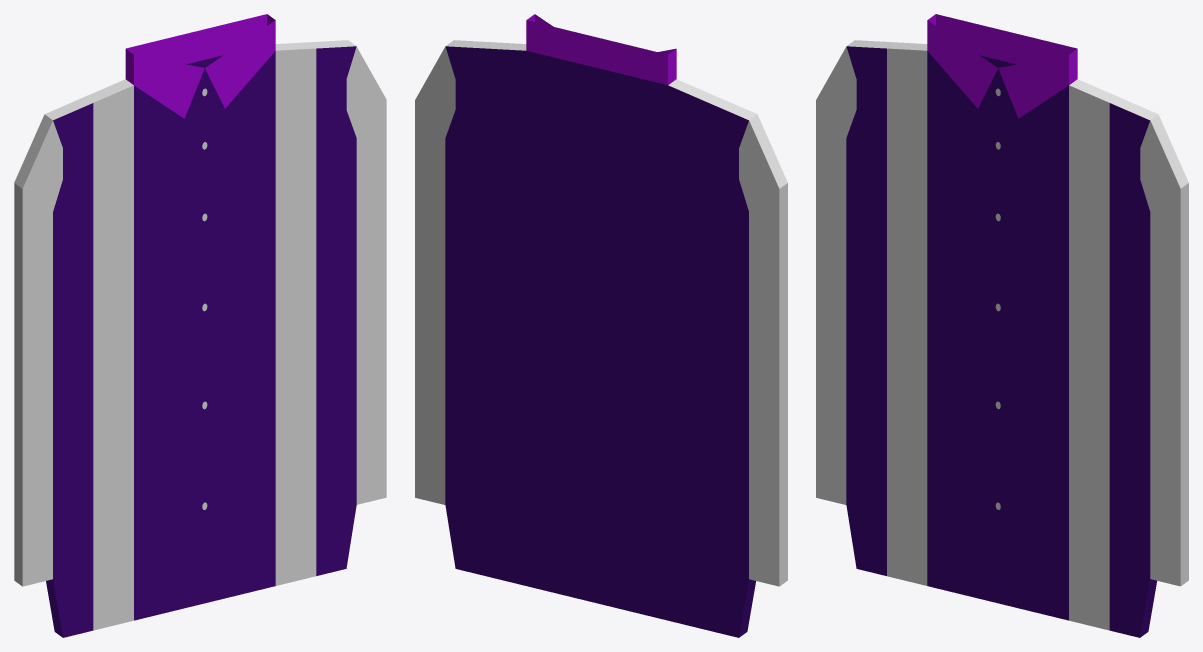
Rendered from shirt-purple.dae.
3 renders of one model, left to right at view 1: azimuth 30°, elevation 25°; view 2: azimuth 150°, elevation 25°; view 3: azimuth 330°, elevation 25°, orthographic.
Parts seen in each view (by area): view 1: group_1_002, group_1_004, group_1_008, group_1_006, group_1_009, group_1_003, group_1_005, group_1_014; view 2: group_1_002, group_1_004, group_1_007, group_1_006, group_1_015, group_1_008, group_1_005; view 3: group_1_002, group_1_008, group_1_004, group_1_006, group_1_003, group_1_009, group_1_014, group_1_005.
Part boxes in pixels (x1=…): group_1_002: x1=46, y1=46, x2=356, y2=637; group_1_004: x1=14, y1=79, x2=133, y2=630; group_1_008: x1=275, y1=40, x2=386, y2=585; group_1_006: x1=126, y1=14, x2=267, y2=64; group_1_009: x1=125, y1=49, x2=204, y2=118; group_1_003: x1=205, y1=14, x2=275, y2=108; group_1_005: x1=14, y1=518, x2=52, y2=586; group_1_014: x1=356, y1=436, x2=386, y2=504; group_1_002: x1=445, y1=46, x2=755, y2=637; group_1_004: x1=668, y1=79, x2=787, y2=525; group_1_007: x1=415, y1=46, x2=455, y2=504; group_1_006: x1=526, y1=20, x2=667, y2=85; group_1_015: x1=749, y1=518, x2=779, y2=586; group_1_008: x1=446, y1=40, x2=526, y2=50; group_1_005: x1=779, y1=519, x2=787, y2=586; group_1_002: x1=846, y1=46, x2=1156, y2=637; group_1_008: x1=1069, y1=79, x2=1188, y2=630; group_1_004: x1=816, y1=40, x2=927, y2=585; group_1_006: x1=936, y1=14, x2=1077, y2=64; group_1_003: x1=998, y1=49, x2=1077, y2=118; group_1_009: x1=927, y1=14, x2=997, y2=108; group_1_014: x1=1150, y1=518, x2=1188, y2=586; group_1_005: x1=816, y1=436, x2=846, y2=504.
Size of the model in its own units: 0.6333 by 0.0254 by 0.9398.
